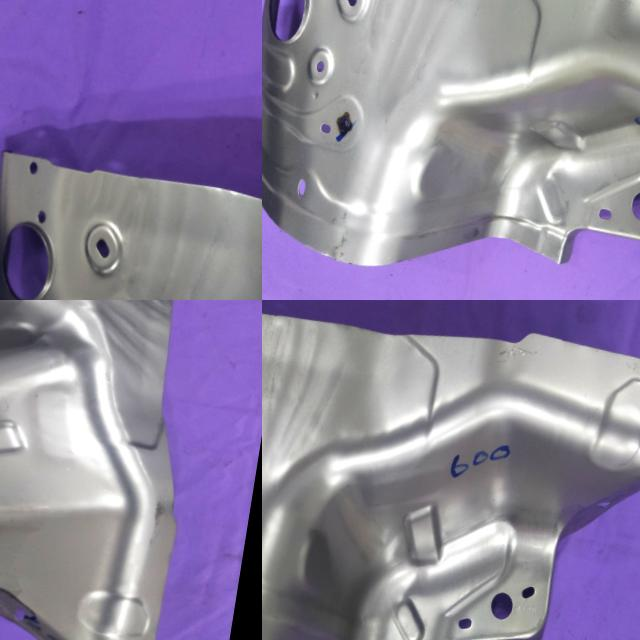Healthy: (262, 300, 640, 640), (262, 0, 640, 300), (0, 300, 242, 640), (0, 142, 262, 300)
